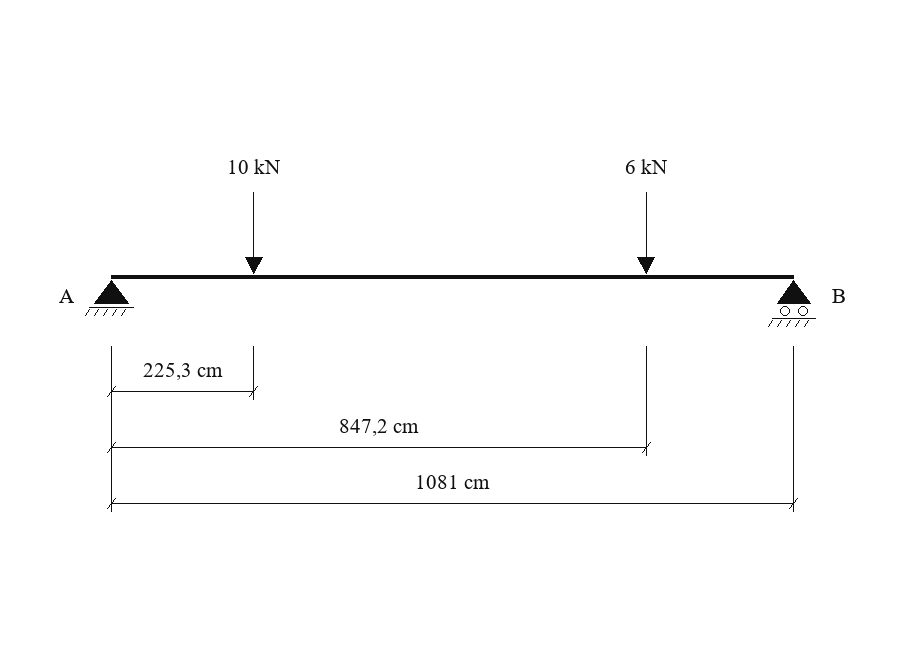pin_support: (85, 280, 134, 316)
point_load: (245, 192, 263, 274), (637, 192, 655, 274)
roller_support: (768, 280, 816, 327)
